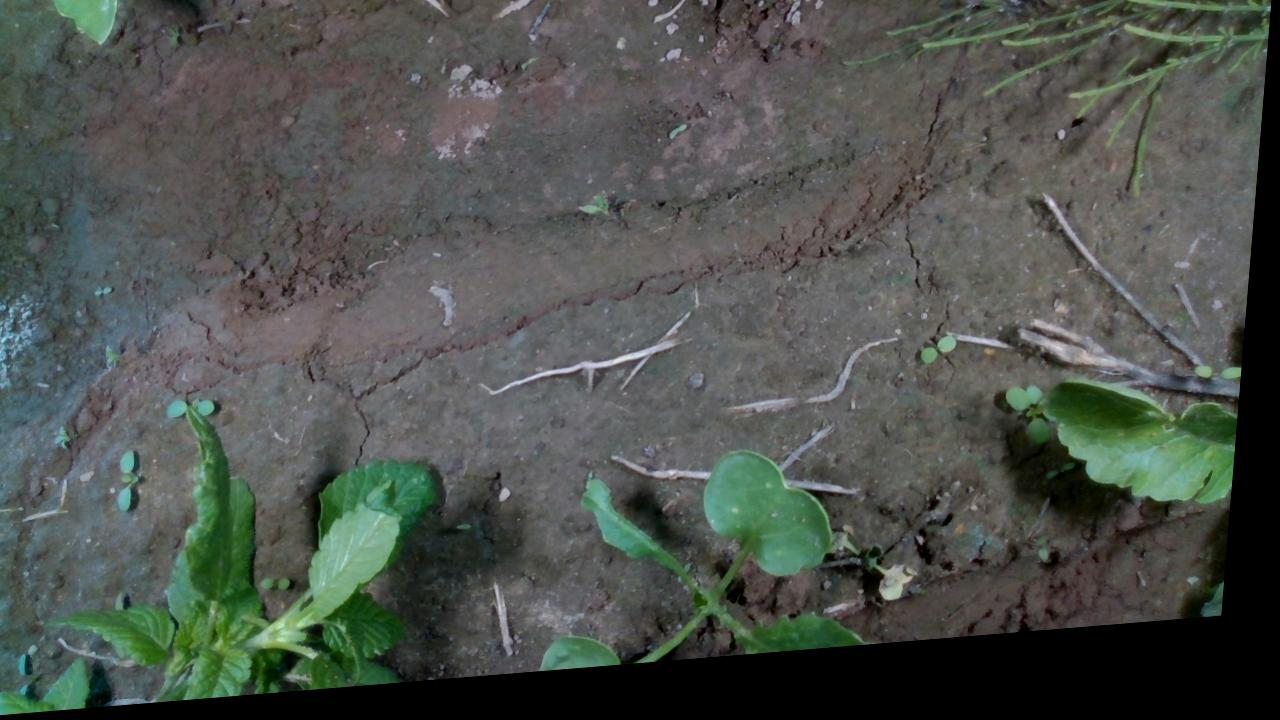weed: (120, 451, 147, 516), (926, 350, 964, 383), (268, 579, 299, 595)
